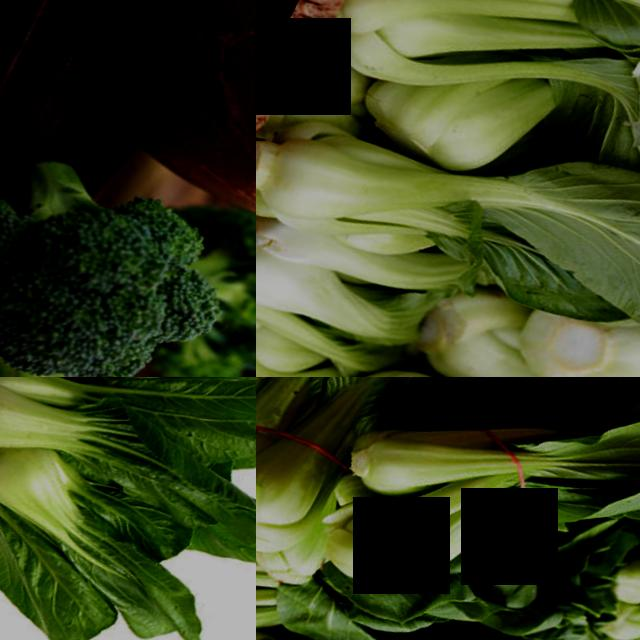bok choy: (256, 70, 640, 377), (331, 0, 640, 230), (350, 377, 600, 603), (0, 426, 206, 640), (256, 377, 471, 570), (0, 377, 252, 528), (396, 0, 640, 137), (305, 314, 640, 377)
broccoli: (0, 99, 256, 377)
